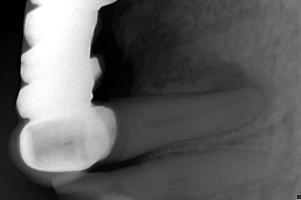Furcation Involvement: (206, 52, 275, 129)
